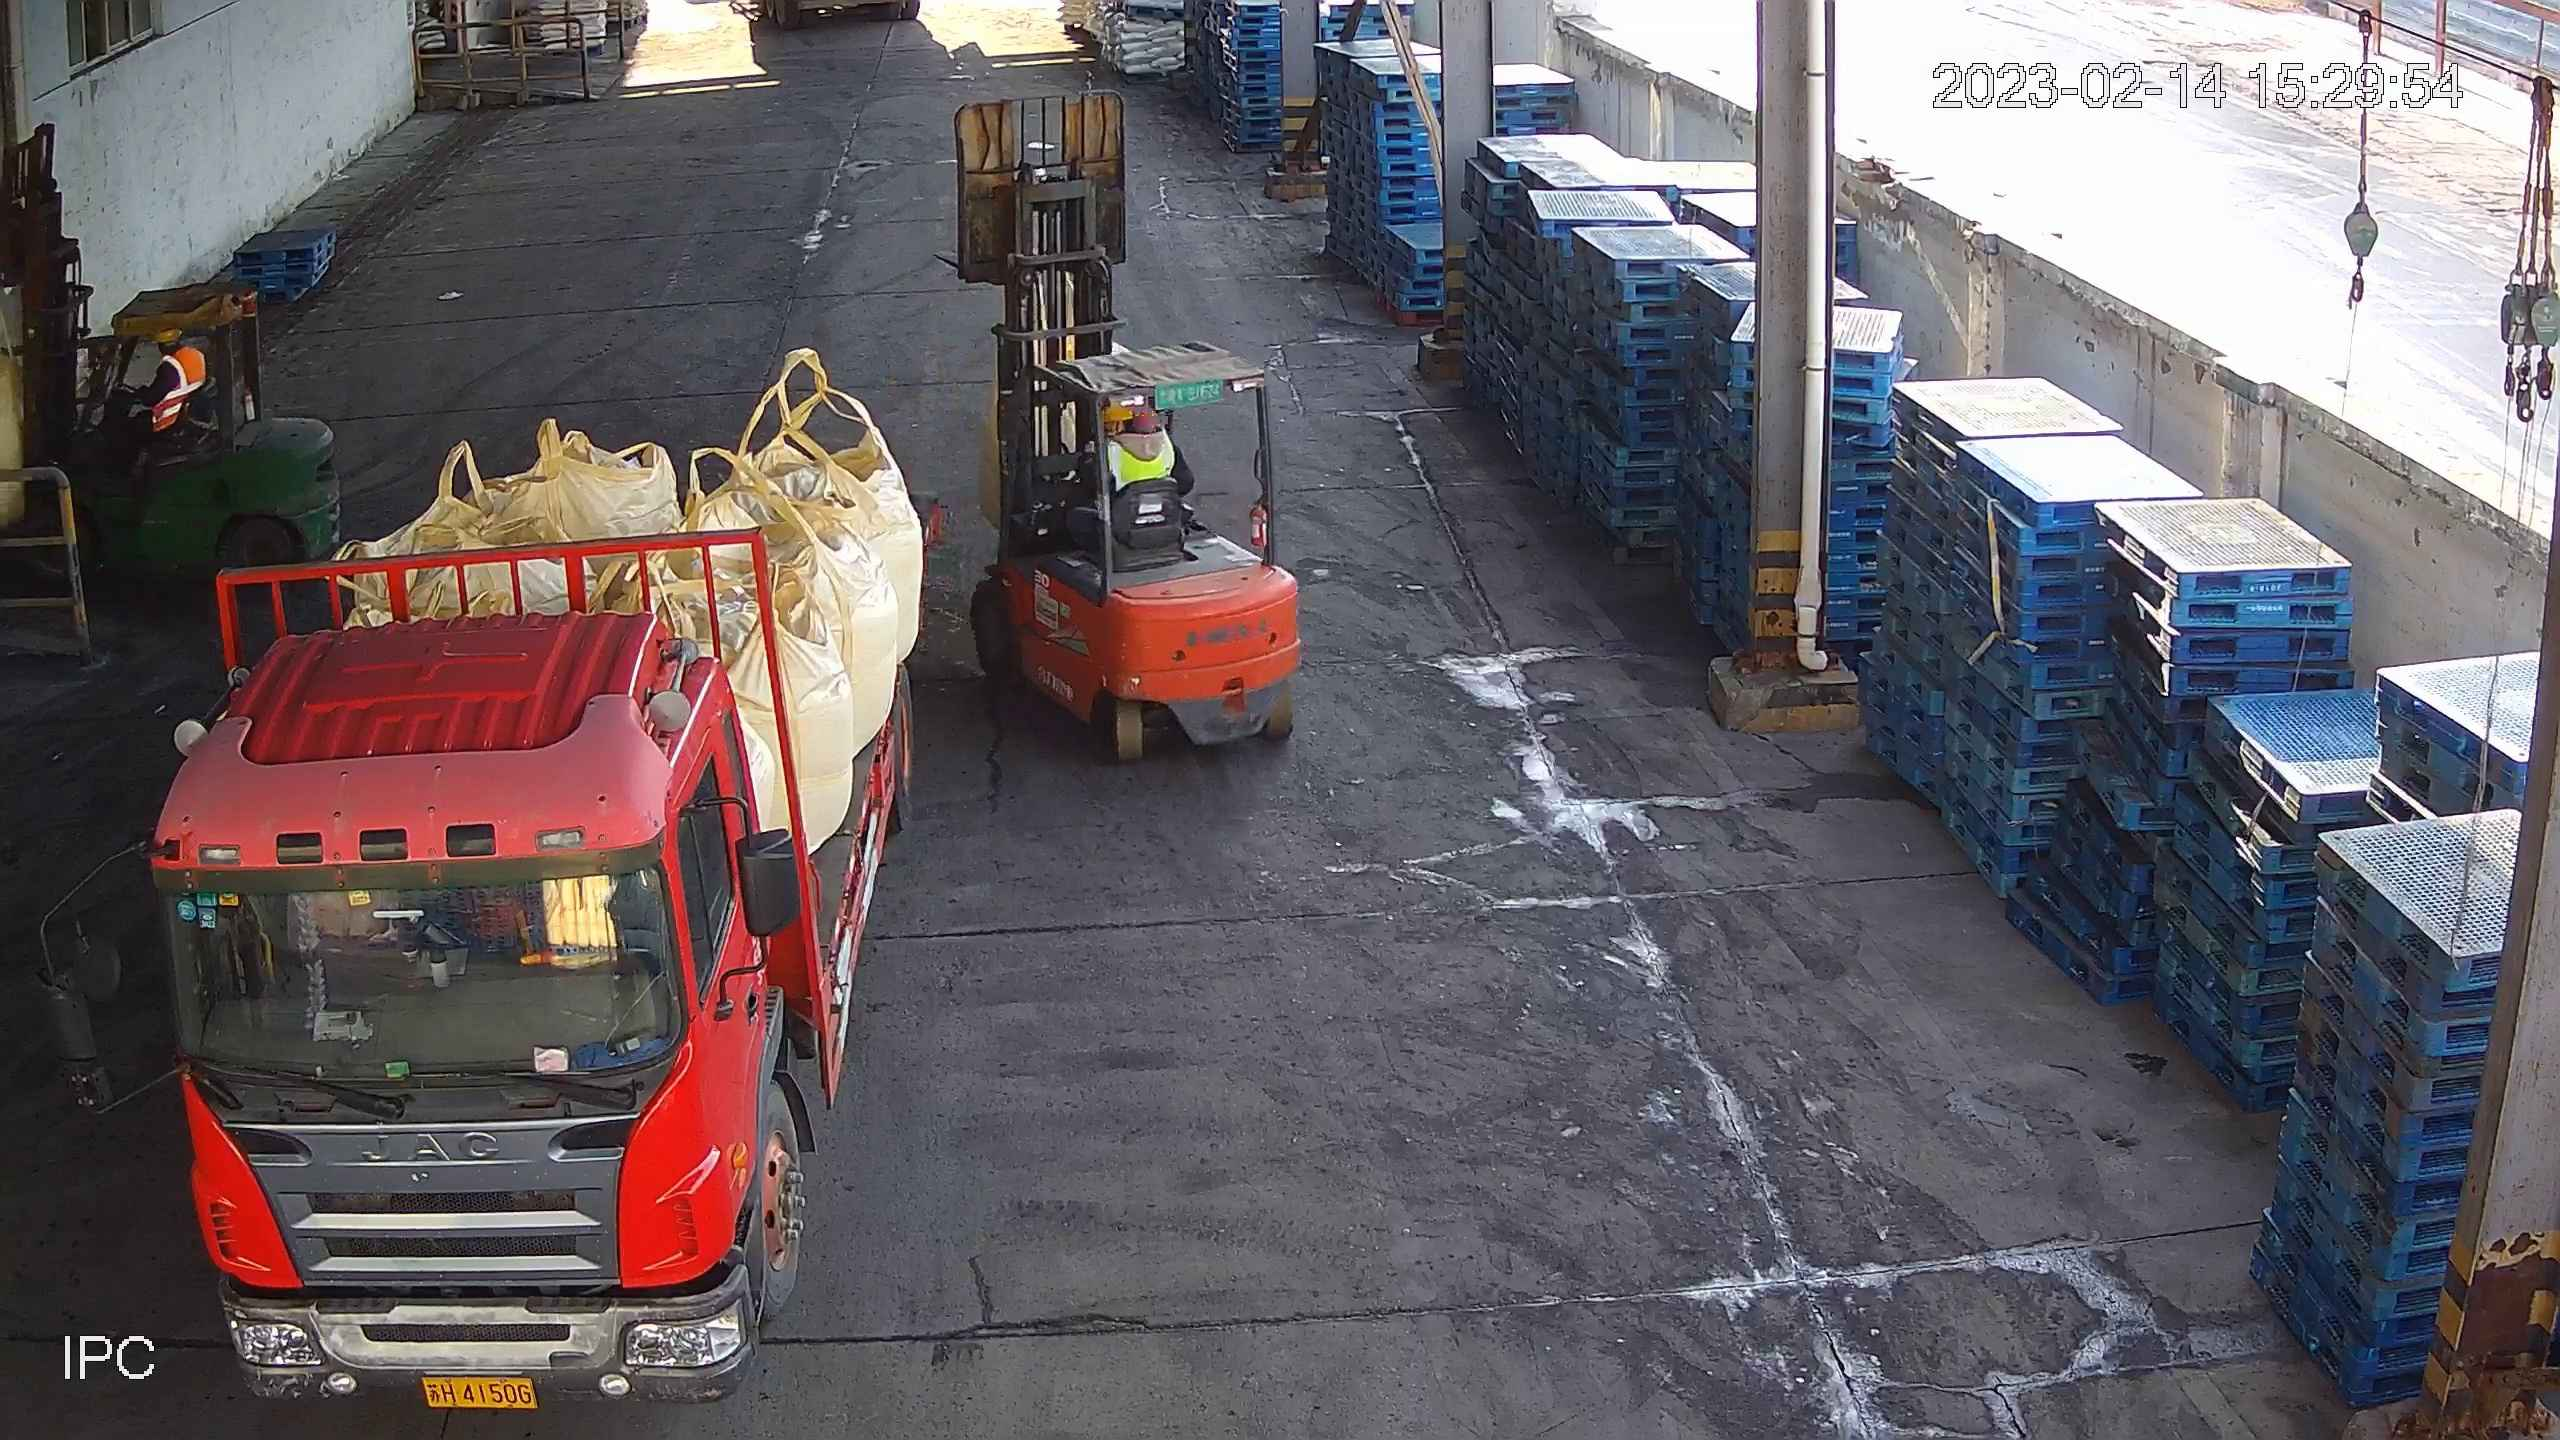people: (105, 327, 206, 467)
truck: (24, 495, 948, 1422)
